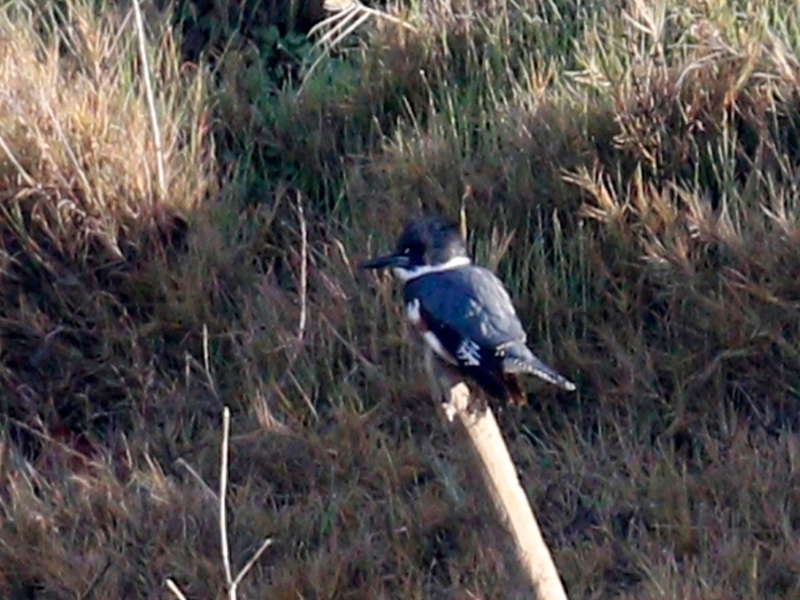kingfisher: (357, 220, 577, 422)
